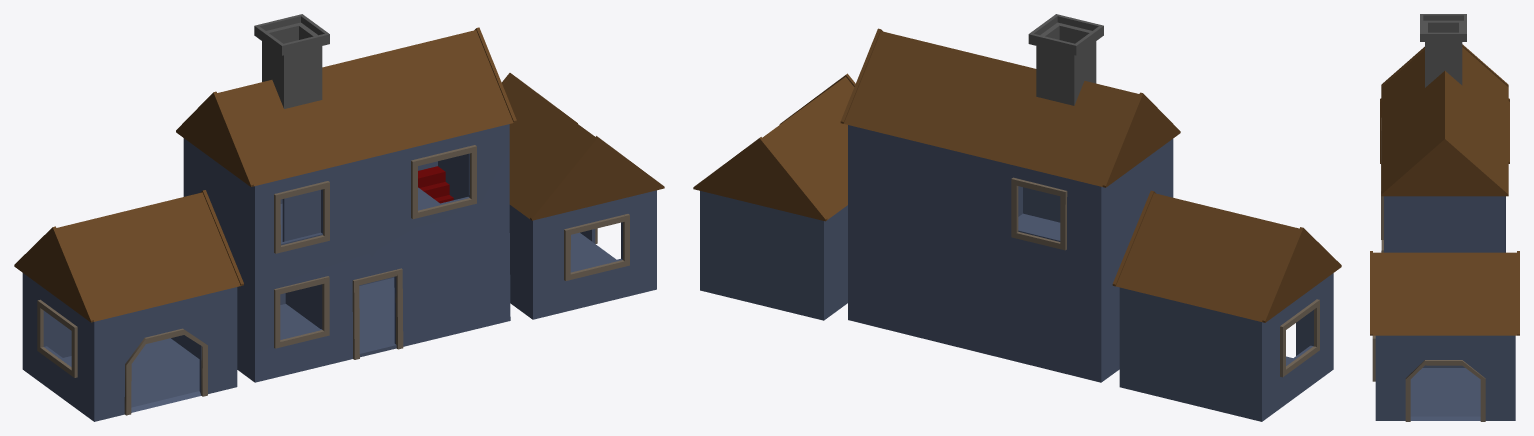
File: house7.fbx
3 renders of one model, left to right at view 1: azimuth 30°, elevation 25°; view 2: azimuth 150°, elevation 25°; view 3: azimuth 270°, elevation 25°, orthographic. The views are drawn at different scales.
Visible parts, largest first — view 1: polySurface107; view 2: polySurface107; view 3: polySurface107.
Part boxes in pixels (x1,y1,x2,y2): polySurface107: [14, 14, 664, 421]; polySurface107: [693, 14, 1341, 421]; polySurface107: [1370, 14, 1519, 421].
Bounding box in the file's own units: 1723 × 897 × 465.
Materials: 5 (1 with a texture image).
